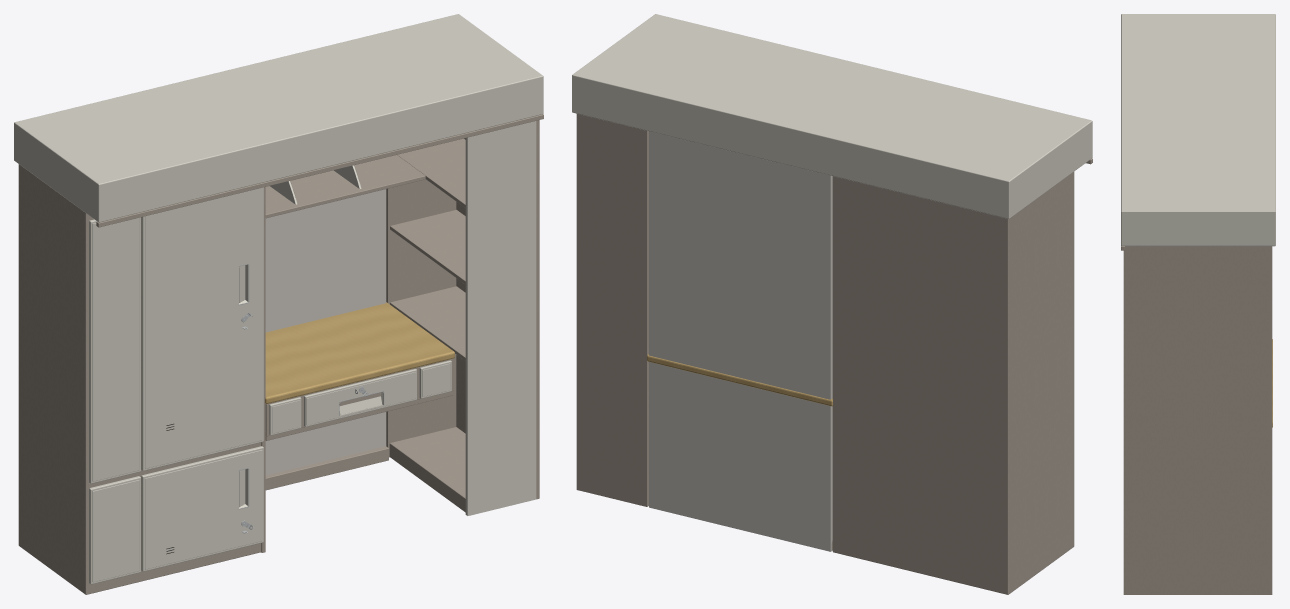
File: workstation_cabinet_uv2.glb
3 views of the same model, side by side, from view 1: azimuth 30°, elevation 25°; view 2: azimuth 150°, elevation 25°; view 3: azimuth 270°, elevation 25° (orthographic). The views are drawn at different scales.
Visible parts, largest first — view 1: wc_top_fascia, wc_left_carcase, wc_left_upper_door_inset, wc_right_tower_front, wc_center_back, wc_left_upper_narrow_door_inset, wc_desk_top, wc_left_lower_door_inset, wc_right_tower_back, wc_left_lower_narrow_door_inset, wc_upper_shelf, wc_right_tower_floor (+17 smaller); view 2: wc_left_carcase, wc_center_back, wc_top_fascia, wc_right_tower_back, wc_desk_top, wc_right_tower_outer_side; view 3: wc_right_tower_outer_side, wc_top_fascia, wc_right_tower_back, wc_right_tower_top.
Part boxes in pixels (x1=…): wc_top_fascia: x1=14, y1=14, x2=543, y2=222; wc_left_carcase: x1=18, y1=164, x2=261, y2=594; wc_left_upper_door_inset: x1=145, y1=188, x2=262, y2=468; wc_right_tower_front: x1=465, y1=121, x2=536, y2=515; wc_center_back: x1=265, y1=189, x2=386, y2=475; wc_left_upper_narrow_door_inset: x1=92, y1=217, x2=139, y2=481; wc_desk_top: x1=265, y1=302, x2=454, y2=403; wc_left_lower_door_inset: x1=145, y1=450, x2=262, y2=569; wc_right_tower_back: x1=386, y1=179, x2=456, y2=457; wc_left_lower_narrow_door_inset: x1=92, y1=480, x2=139, y2=582; wc_upper_shelf: x1=265, y1=155, x2=425, y2=218; wc_right_tower_floor: x1=389, y1=427, x2=465, y2=512; wc_left_carcase: x1=832, y1=172, x2=1074, y2=594; wc_center_back: x1=649, y1=131, x2=832, y2=551; wc_top_fascia: x1=572, y1=14, x2=1092, y2=218; wc_right_tower_back: x1=576, y1=114, x2=648, y2=506; wc_desk_top: x1=647, y1=354, x2=832, y2=406; wc_right_tower_outer_side: x1=576, y1=154, x2=579, y2=490; wc_right_tower_outer_side: x1=1123, y1=246, x2=1272, y2=594; wc_top_fascia: x1=1121, y1=14, x2=1275, y2=246; wc_right_tower_back: x1=1269, y1=246, x2=1271, y2=594; wc_right_tower_top: x1=1125, y1=246, x2=1271, y2=248.
Size of the model in its own units: 2.29 by 2.08 by 0.758.
7 materials, 4 textured.
